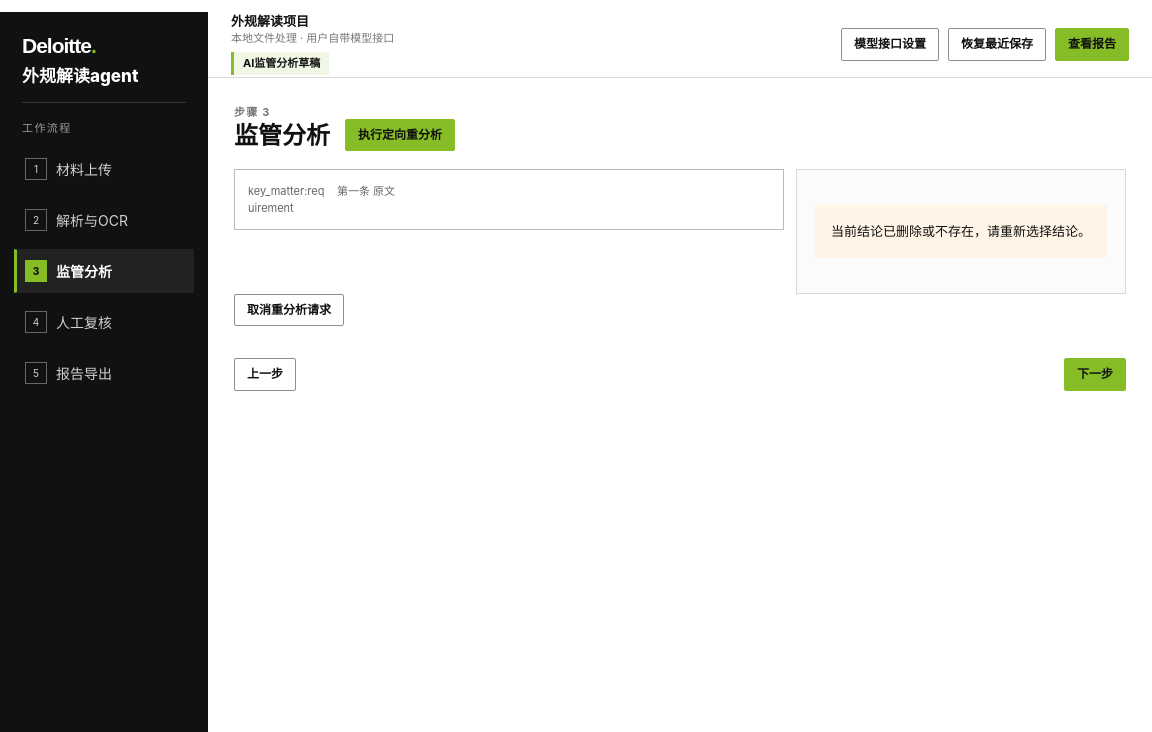
Test: passes a trusted targeted directive and cancellation clears the request and restores review
Click the button "执行定向重分析".
click(400, 135)  # box x1=345 y1=119 x2=455 y2=151
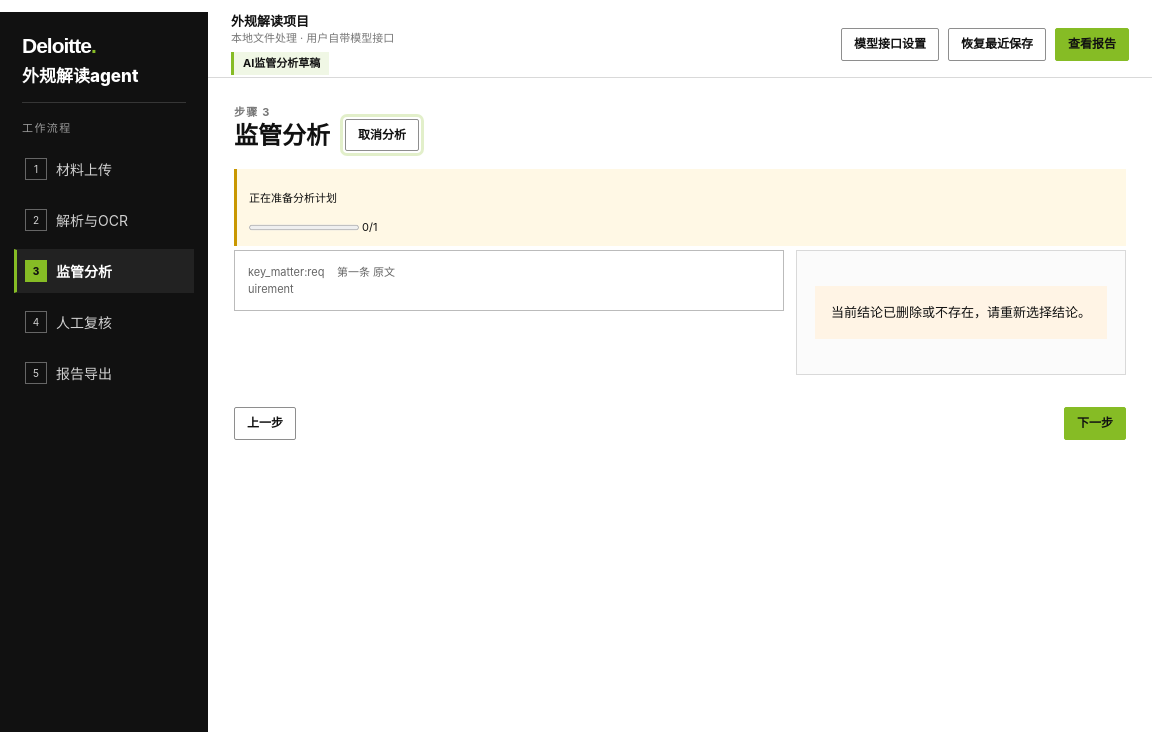
Check: the button "4 人工复核" is disabled, box x1=14 y1=300 x2=194 y2=344
Click the button "取消分析".
click(382, 135)  # box x1=345 y1=119 x2=419 y2=151
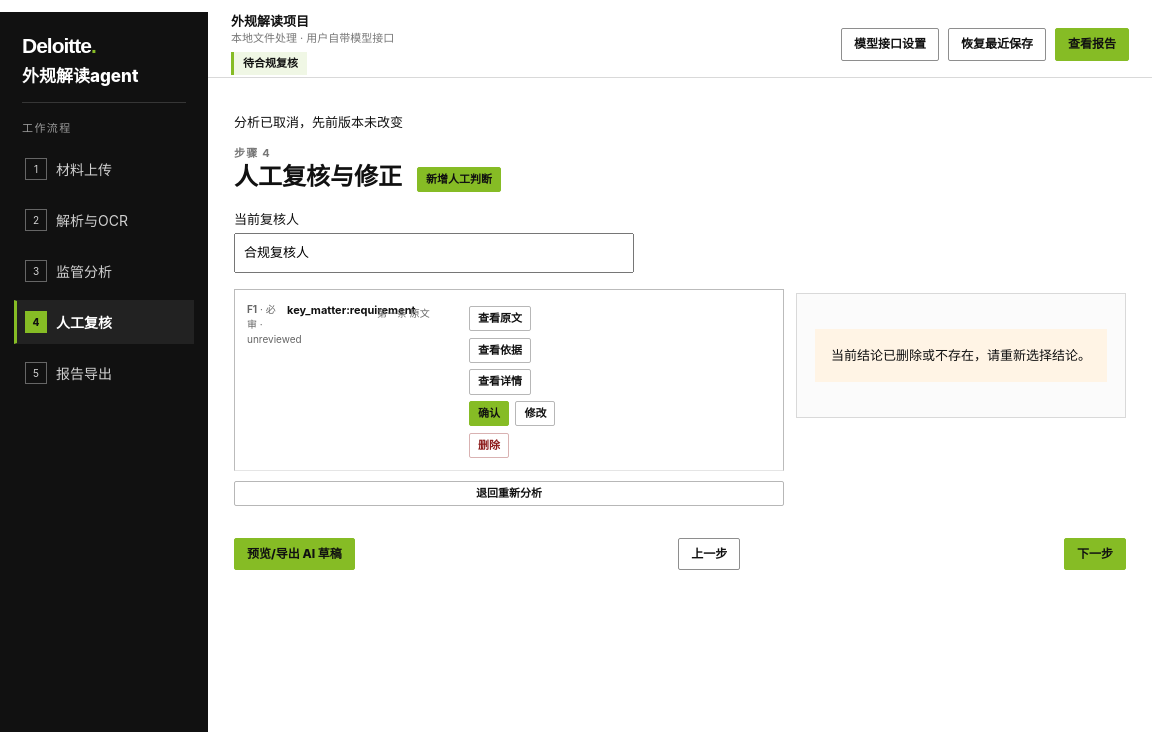
Check: the button "取消重分析请求" is not shown
Check: the heading "人工复核与修正" is shown, box x1=234 y1=163 x2=402 y2=192
